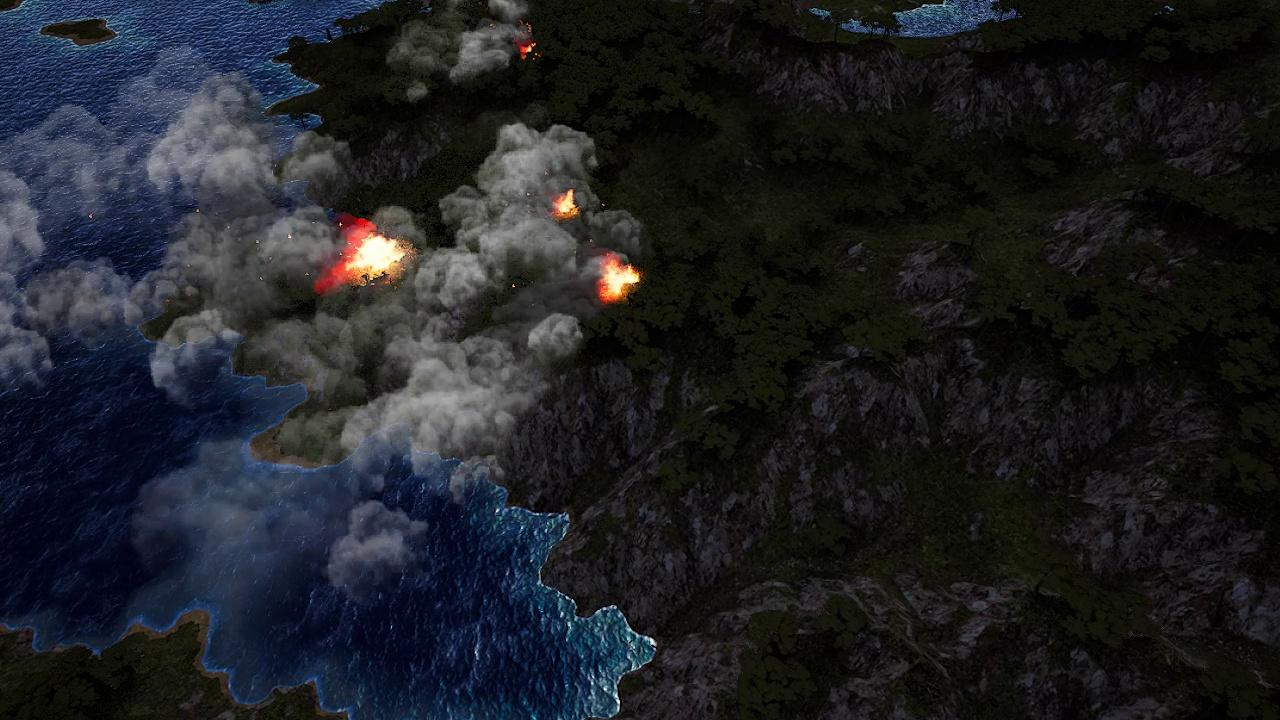fire: (327, 227, 414, 297), (600, 260, 642, 303), (513, 37, 544, 57), (554, 191, 577, 217)
smoke: (0, 49, 644, 630), (380, 0, 533, 84)
